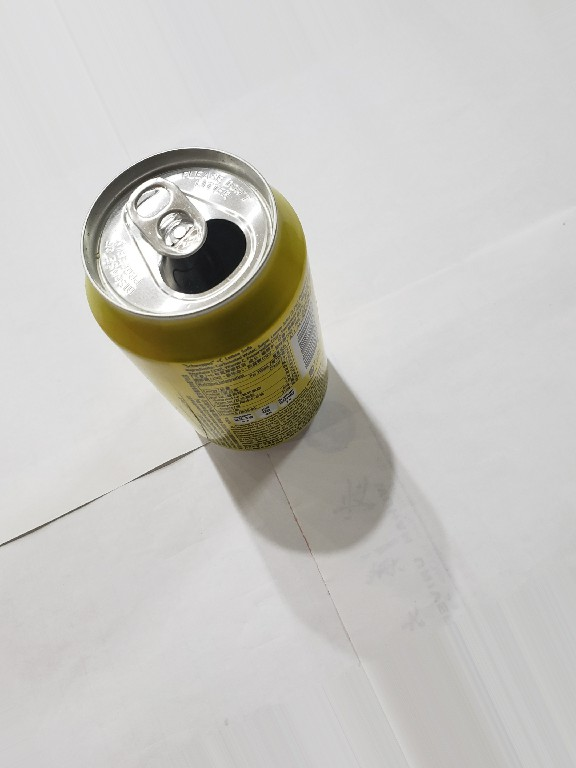can: (71, 141, 335, 458)
